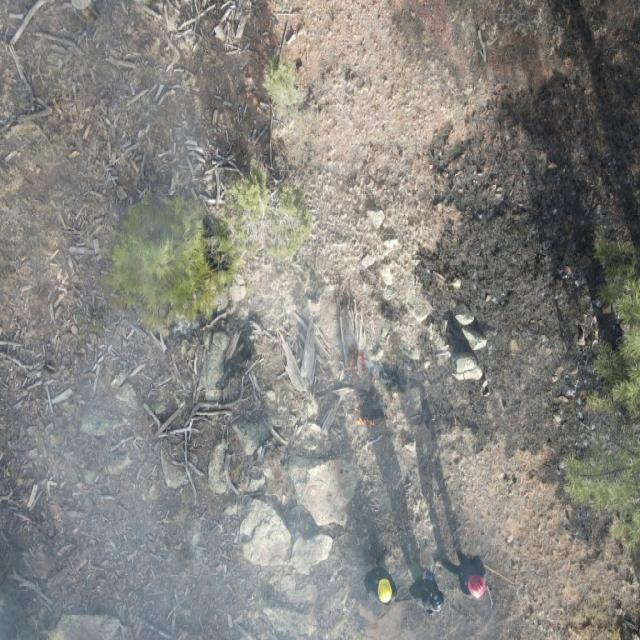fire: (349, 346, 368, 379), (352, 411, 379, 431)
smoke: (193, 239, 508, 640), (0, 0, 196, 640)
